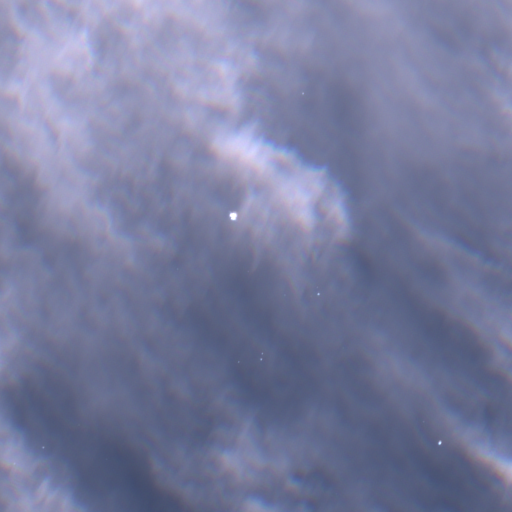Iceberg: (229, 212, 237, 220), (438, 440, 441, 445), (317, 293, 319, 295), (261, 352, 263, 354), (260, 358, 262, 360), (42, 446, 44, 448), (302, 92, 303, 94), (238, 361, 239, 362)
